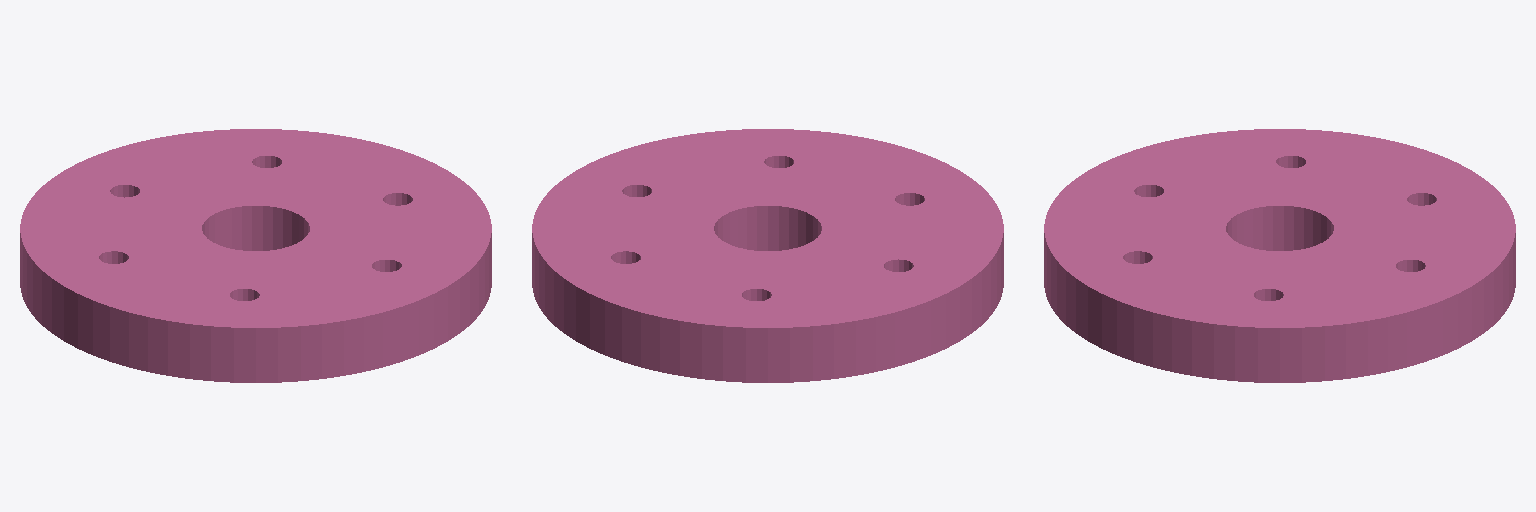
URDF robot description (mantis_robot):
<robot name="mantis_robot">

    <!-- export stl from inventor in m -->

    <!-- /mnt/c/ros/mantis/mantis.urdf -->

  <link name="link1" >
          <visual>
            <origin rpy="0 0 0" xyz="0 0 0"/>
            <geometry>
                <mesh filename="package://mantis/mantis/Mantis_Robot_R1.stl" />
            </geometry>
        </visual>
    </link>
  <link name="link2" >
          <visual>
            <origin rpy="0 0 0" xyz="0 0 0"/>
            <geometry>
                <mesh filename="package://mantis/mantis/Mantis_Robot_R2.stl" />
            </geometry>
        </visual>
    </link>
  <link name="link3" >
          <visual>
            <origin rpy="0 0 0" xyz="0 0 -0.297"/>
            <geometry>
                <mesh filename="package://mantis/mantis/Mantis_Robot_R3.stl" />
            </geometry>
        </visual>
    </link>
  <link name="link4" >
          <visual>
            <origin rpy="0 0 0" xyz="0 0 -0.522"/>
            <geometry>
                <mesh filename="package://mantis/mantis/Mantis_Robot_R4.stl" />
            </geometry>
        </visual>
    </link>
  <link name="link5" >
          <visual>
            <origin rpy="0 0 0" xyz="0 0 -0.522"/>
            <geometry>
                <mesh filename="package://mantis/mantis/Mantis_Robot_R5.stl" />
            </geometry>
        </visual>
    </link>
  <link name="link6" >
          <visual>
            <origin rpy="0 0 0" xyz="0 0 -0.750855"/>
            <geometry>
                <mesh filename="package://mantis/mantis/Mantis_Robot_R6.stl" />
            </geometry>
        </visual>
    </link>
  <link name="link7" >
          <visual>
            <origin rpy="0 0 0" xyz="0 0 -0.750855"/>
            <geometry>
                <mesh filename="package://mantis/mantis/Mantis_Robot_R7.stl" />
            </geometry>
        </visual>
    </link>

  <joint name="joint1" type="continuous">
    <!-- <safety_controller k_position="100.0" k_velocity="40.0" soft_lower_limit="-2.8973" soft_upper_limit="2.8973" /> -->
    <parent link="link1"/>
    <child link="link2"/>
    <origin xyz="0 0 0" rpy="0 0 0" />
    <axis xyz="0 0 1" />
    <!-- <limit effort="87" lower="-2.9671" upper="2.9671" velocity="2.3925" /> -->
  </joint>

  <joint name="joint2" type="continuous">
    <parent link="link2"/>
    <child link="link3"/>
    <origin xyz="0 0 0.297" rpy="0 0 0" />
    <axis xyz="1 0 0" />
  </joint>

  <joint name="joint3" type="continuous">
    <parent link="link3"/>
    <child link="link4"/>
    <origin xyz="0 0 0.225" rpy="0 0 0" />
    <axis xyz="1 0 0" />
  </joint>

  <joint name="joint4" type="continuous">
    <parent link="link4"/>
    <child link="link5"/>
    <origin xyz="0 0 0" rpy="0 0 0" />
    <axis xyz="0 0 1" />
  </joint>

   <joint name="joint5" type="continuous">
    <parent link="link5"/>
    <child link="link6"/>
    <origin xyz="0 0 0.228855" rpy="0 0 0" />
    <axis xyz="1 0 0" />
  </joint> 

  <joint name="joint6" type="continuous">
    <parent link="link6"/>
    <child link="link7"/>
    <origin xyz="0 0 0" rpy="0 0 0" />
    <axis xyz="0 0 1" />
  </joint>


</robot>

--- Render facts (derived) ---
3 views of the same robot in one strip: view 1: azimuth 30°, elevation 25°; view 2: azimuth 150°, elevation 25°; view 3: azimuth 270°, elevation 25° (orthographic).
Model mantis_robot with 7 links and 6 joints (6 continuous), rooted at link1, posed every joint at zero.
Links seen in each view (by area): view 1: link7; view 2: link7; view 3: link7.
Boxes of the visible links, x1,y1,x2,y2 form: link7: [20, 129, 491, 382]; link7: [532, 129, 1003, 382]; link7: [1044, 129, 1515, 382].
Bounding box of the posed robot: 0.0388 × 0.0388 × 0.005 m (x, y, z).
Meshes: 7 distinct files referenced, 1 mesh visuals loaded (1 binary STL); not drawn: 6 (reference not matched to a file when rendering).